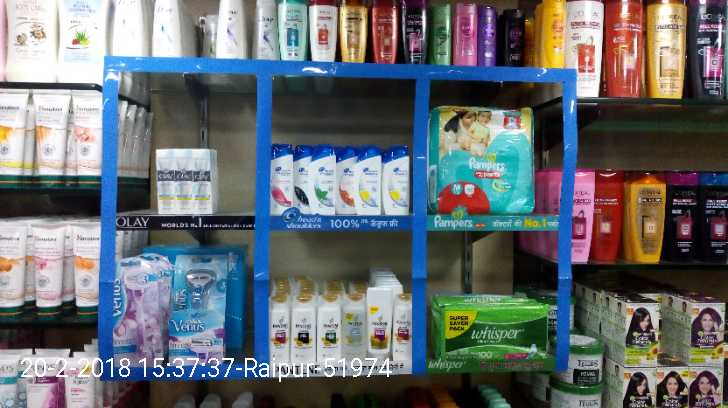venus: (172, 255, 230, 365), (115, 252, 170, 363)
